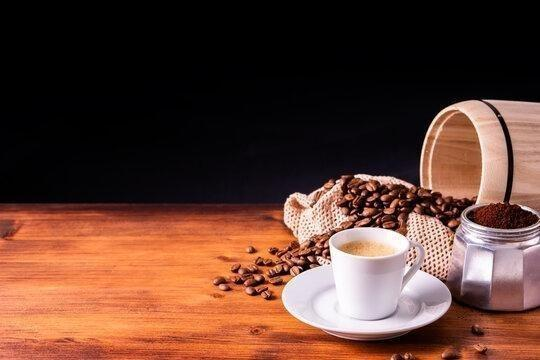cup-handle: (328, 226, 426, 321)
